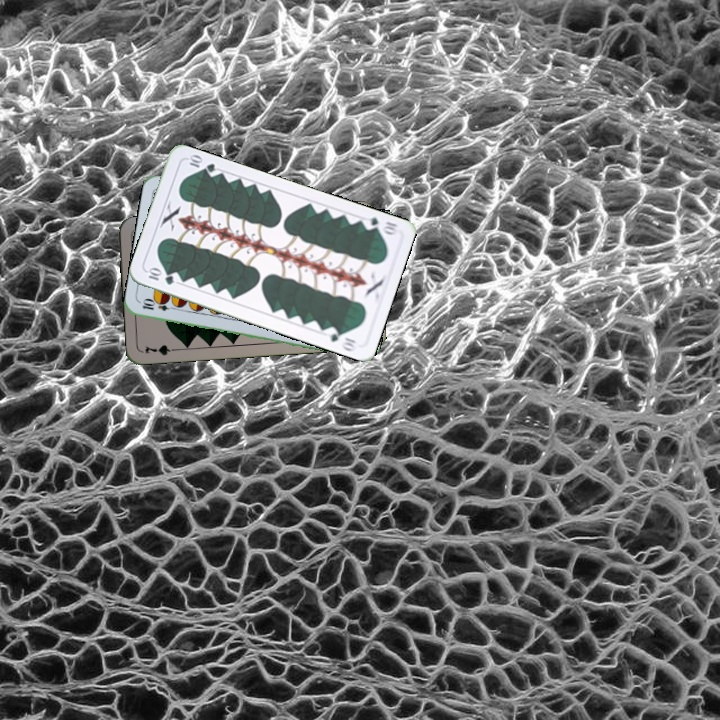E10: (138, 297, 179, 314)
G10: (359, 213, 401, 238), (143, 264, 176, 287)
G7: (141, 341, 181, 358)
